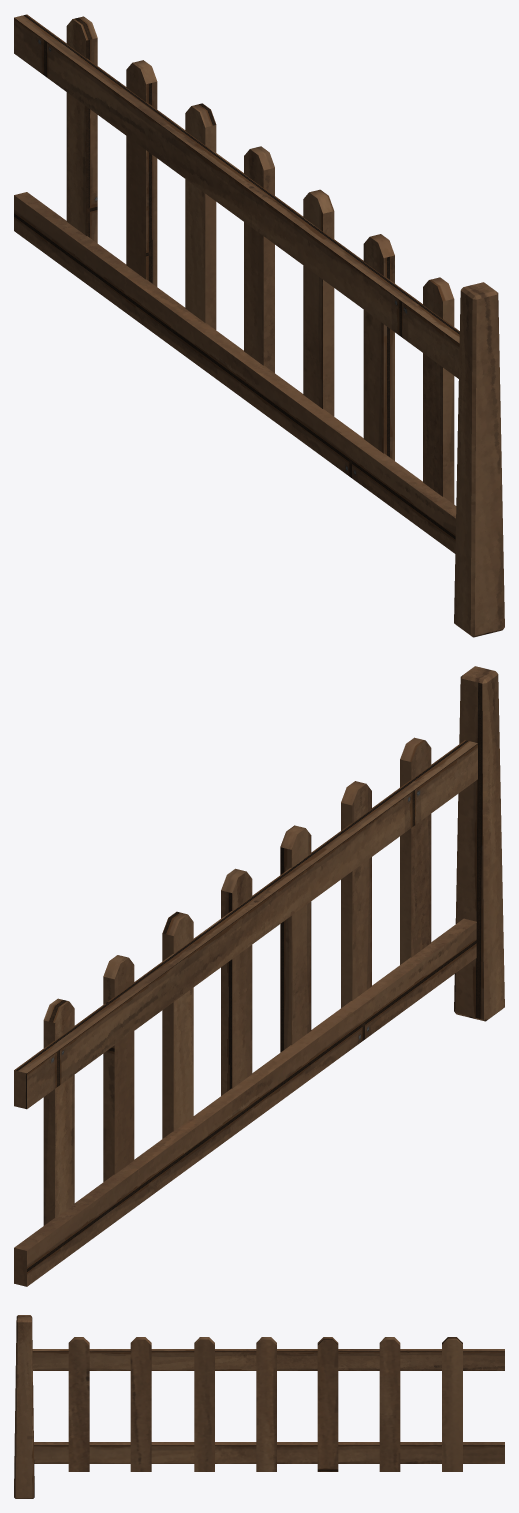
File: fence_nonbash.fbx
3 views of the same model, one above another, from view 1: azimuth 30°, elevation 25°; view 2: azimuth 150°, elevation 25°; view 3: azimuth 270°, elevation 25° (orthographic). The views are drawn at different scales.
Parts seen in each view (by area): view 1: fence_nonbash; view 2: fence_nonbash; view 3: fence_nonbash.
Part boxes in pixels (left/top/right/bottom): fence_nonbash: left=14, top=14, right=504, bottom=637; fence_nonbash: left=14, top=666, right=504, bottom=1286; fence_nonbash: left=14, top=1315, right=504, bottom=1498.
Size of the model in its own units: 0.9986 by 9.44 by 23.66.
Materials: 1 (1 with a texture image).
